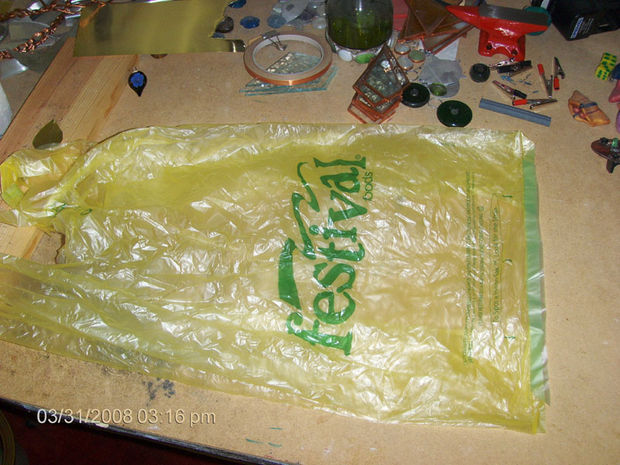plastic bag: (1, 120, 552, 435)
